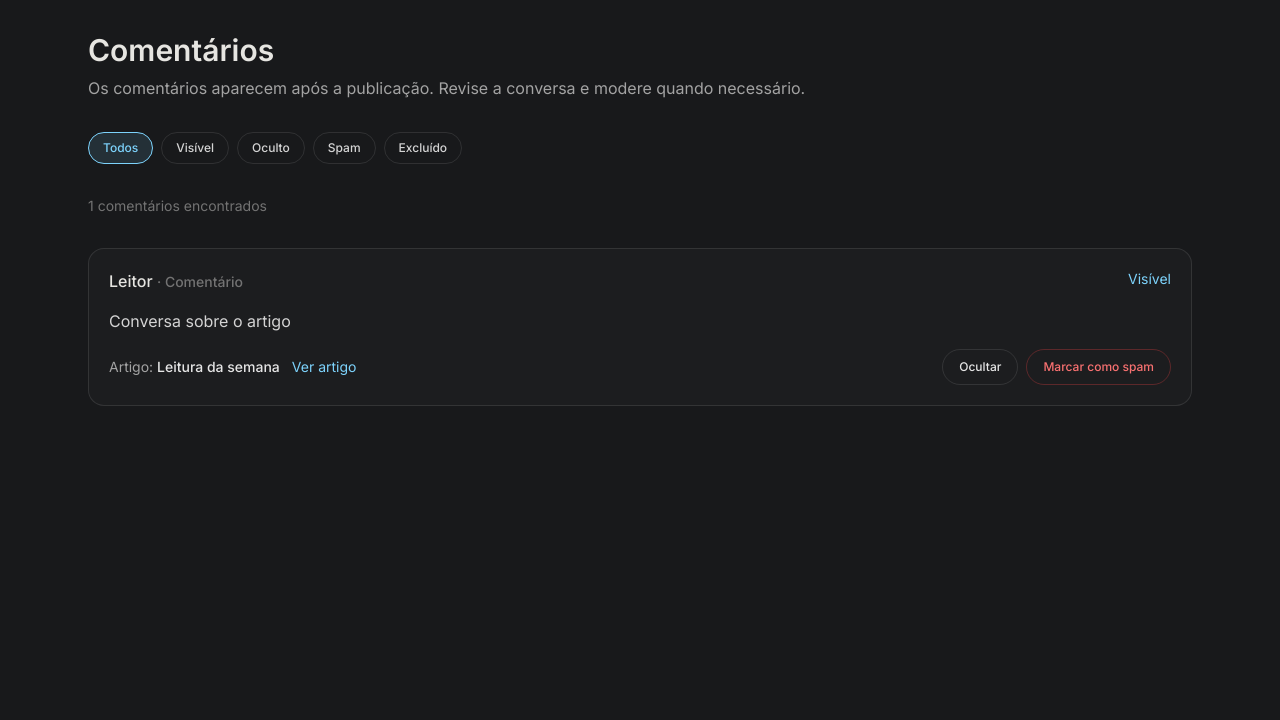
Test: moderação e campanhas no painel › exige confirmação e motivo opcional para ocultar um comentário
Expected: the text "Leitura da semana" is shown, [157, 358, 280, 375]
Click the button "Ocultar": (980, 367) [942, 349, 1018, 385]
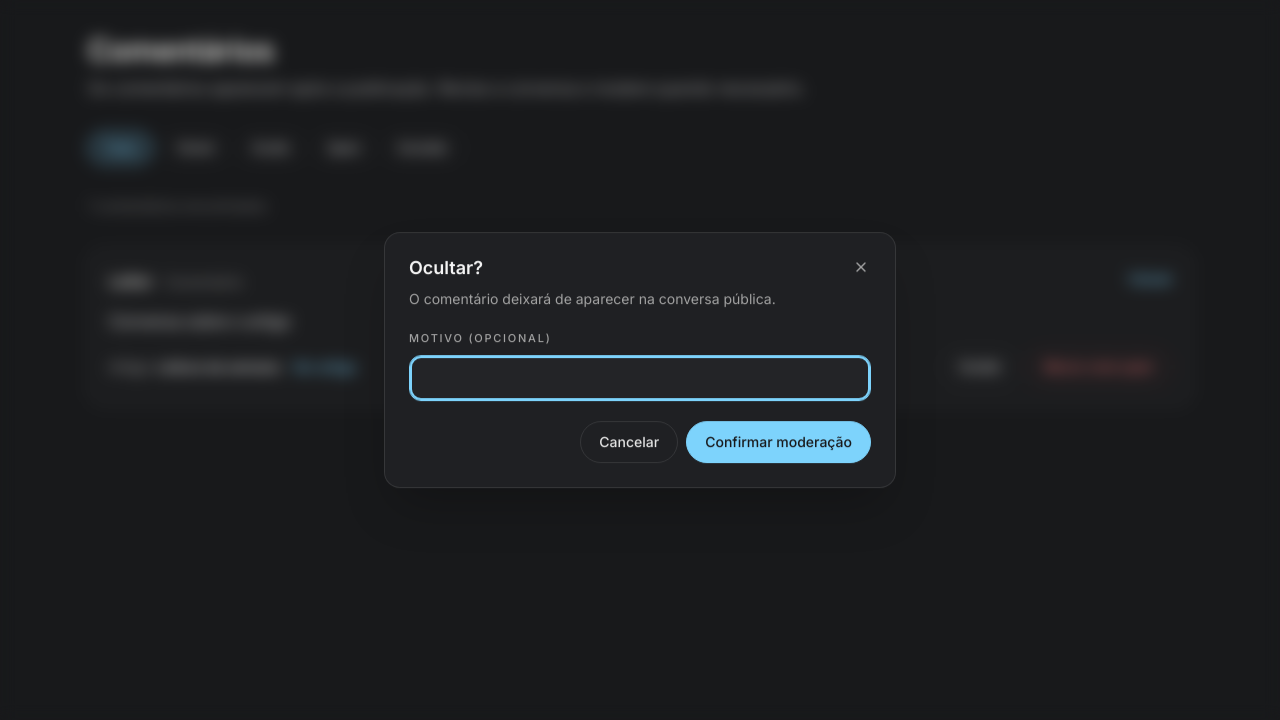
In the field labelled "Motivo (opcional)": (640, 378) [409, 355, 871, 401], type "Fora do tema"
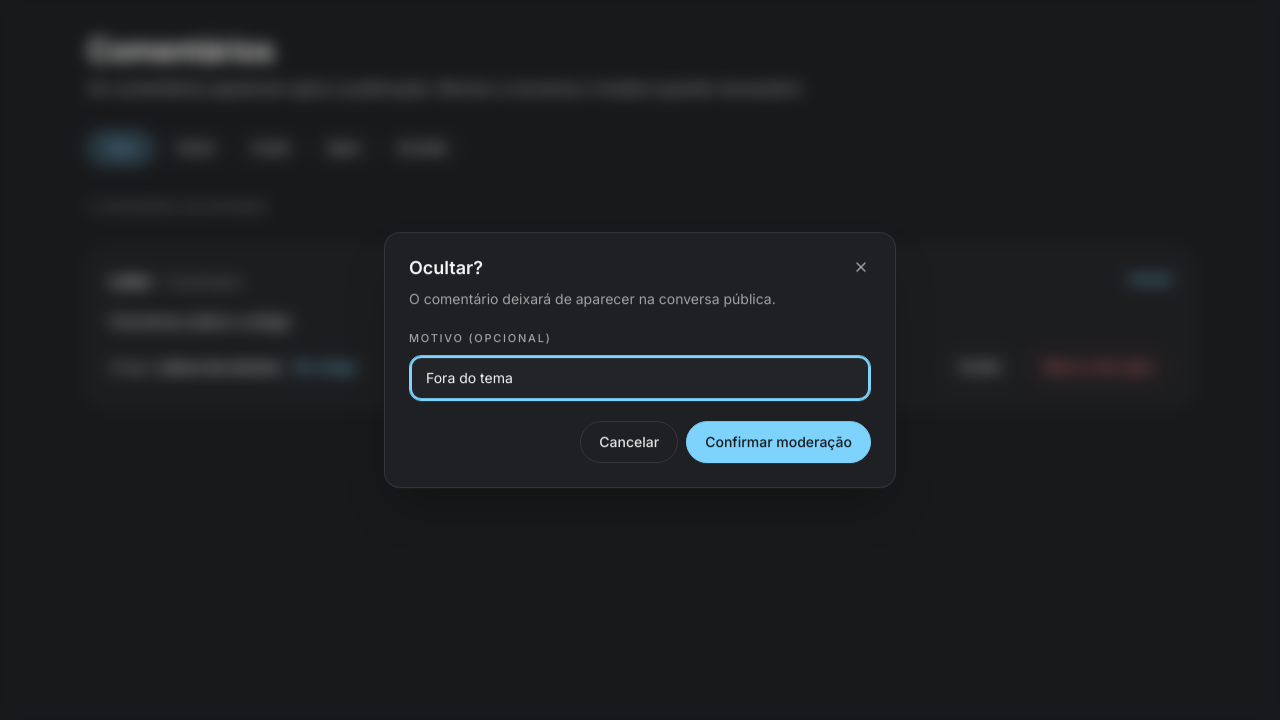
Click the button "Confirmar moderação": (779, 442) [686, 421, 871, 463]
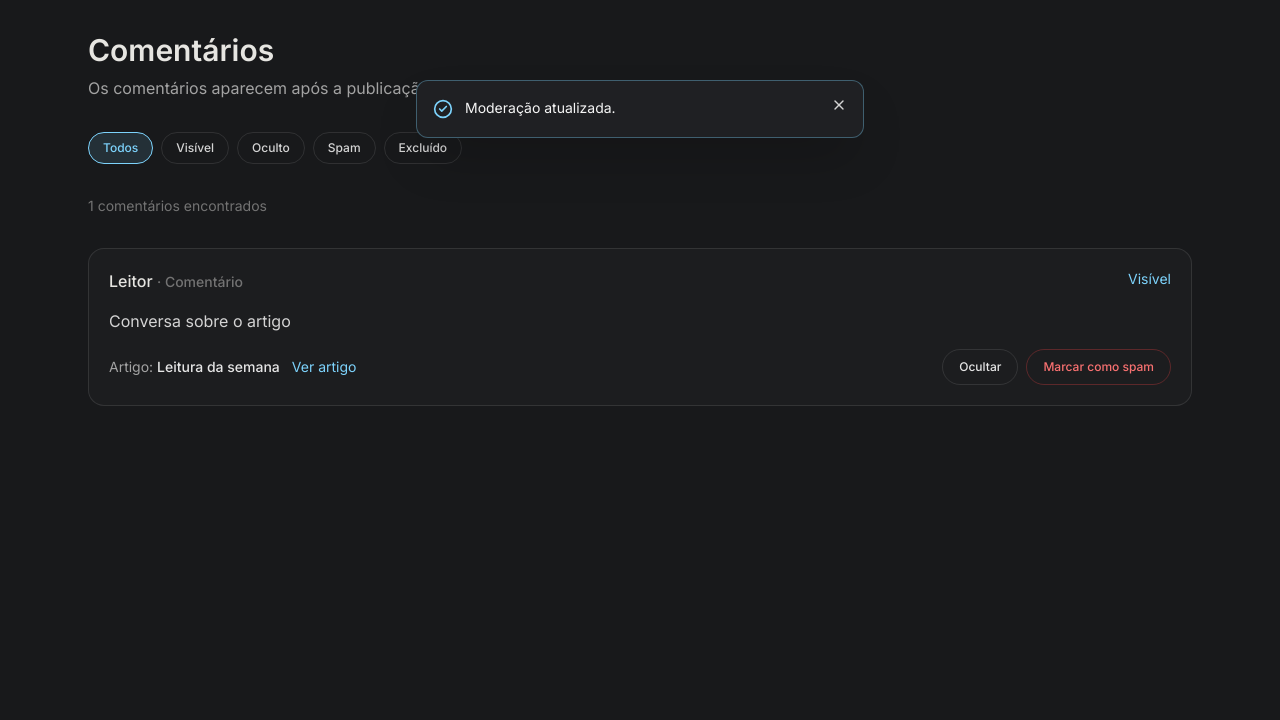
Expected: the text "Moderação atualizada." is shown, [465, 99, 616, 116]
